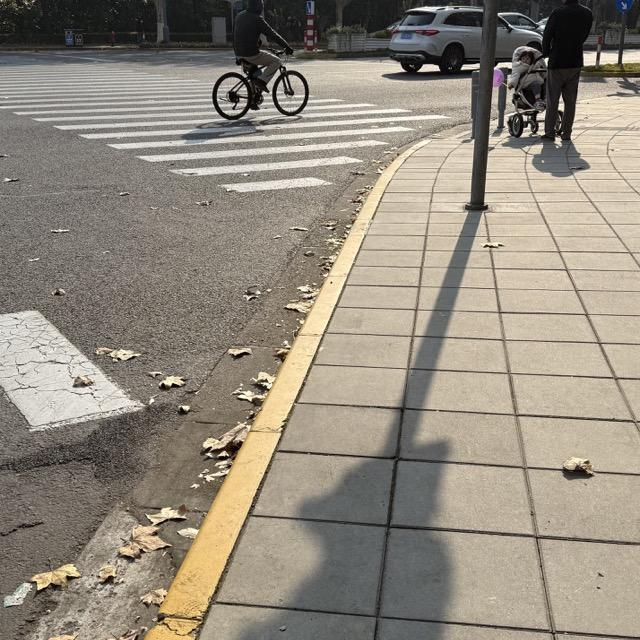curb: (144, 141, 428, 639)
